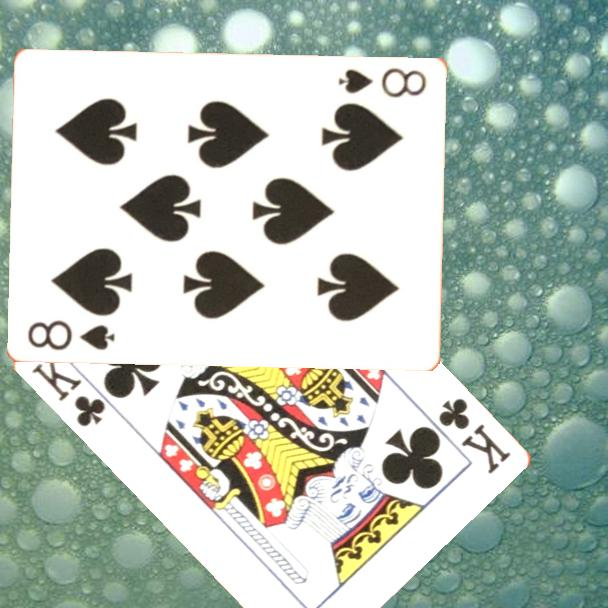c13: (29, 348, 110, 430), (435, 394, 515, 477)
s08: (335, 64, 430, 100), (24, 316, 118, 352)
